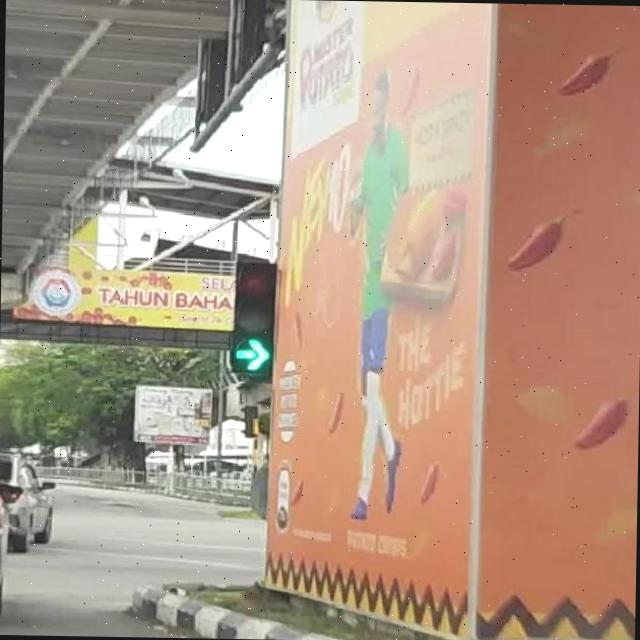green_light: (230, 260, 276, 378)
